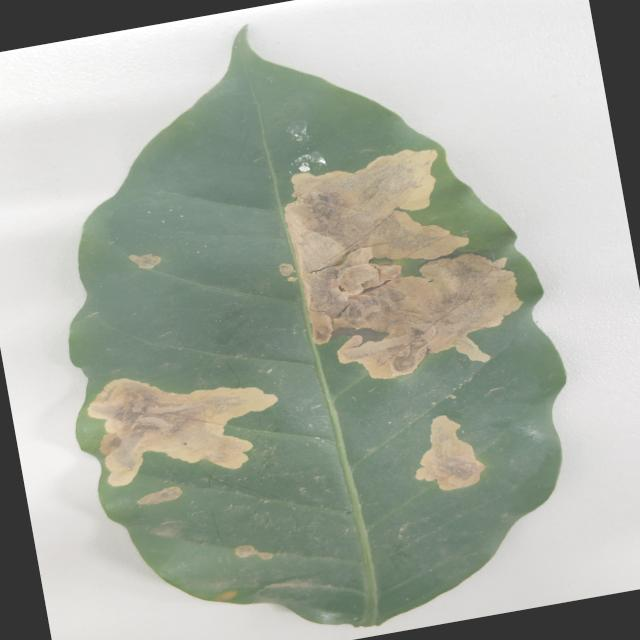KaratDaunKopi: (334, 253, 521, 378), (285, 149, 467, 277), (88, 378, 277, 485), (305, 248, 401, 318), (416, 415, 484, 490), (308, 307, 333, 343), (137, 486, 182, 504), (235, 545, 273, 559), (129, 253, 161, 268), (279, 263, 293, 276), (287, 276, 297, 281)
